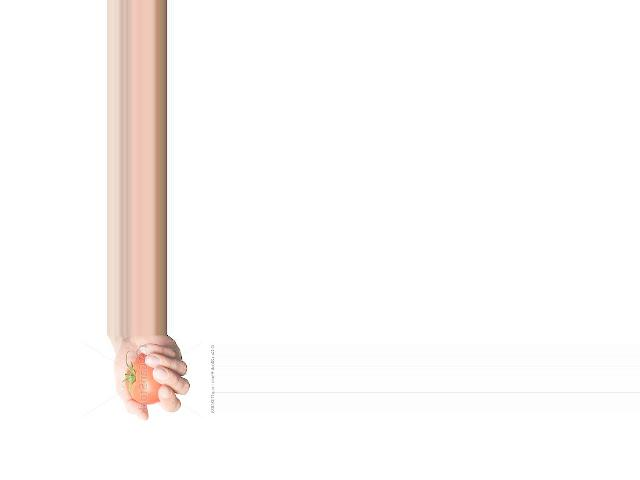tomato: (125, 354, 160, 405)
